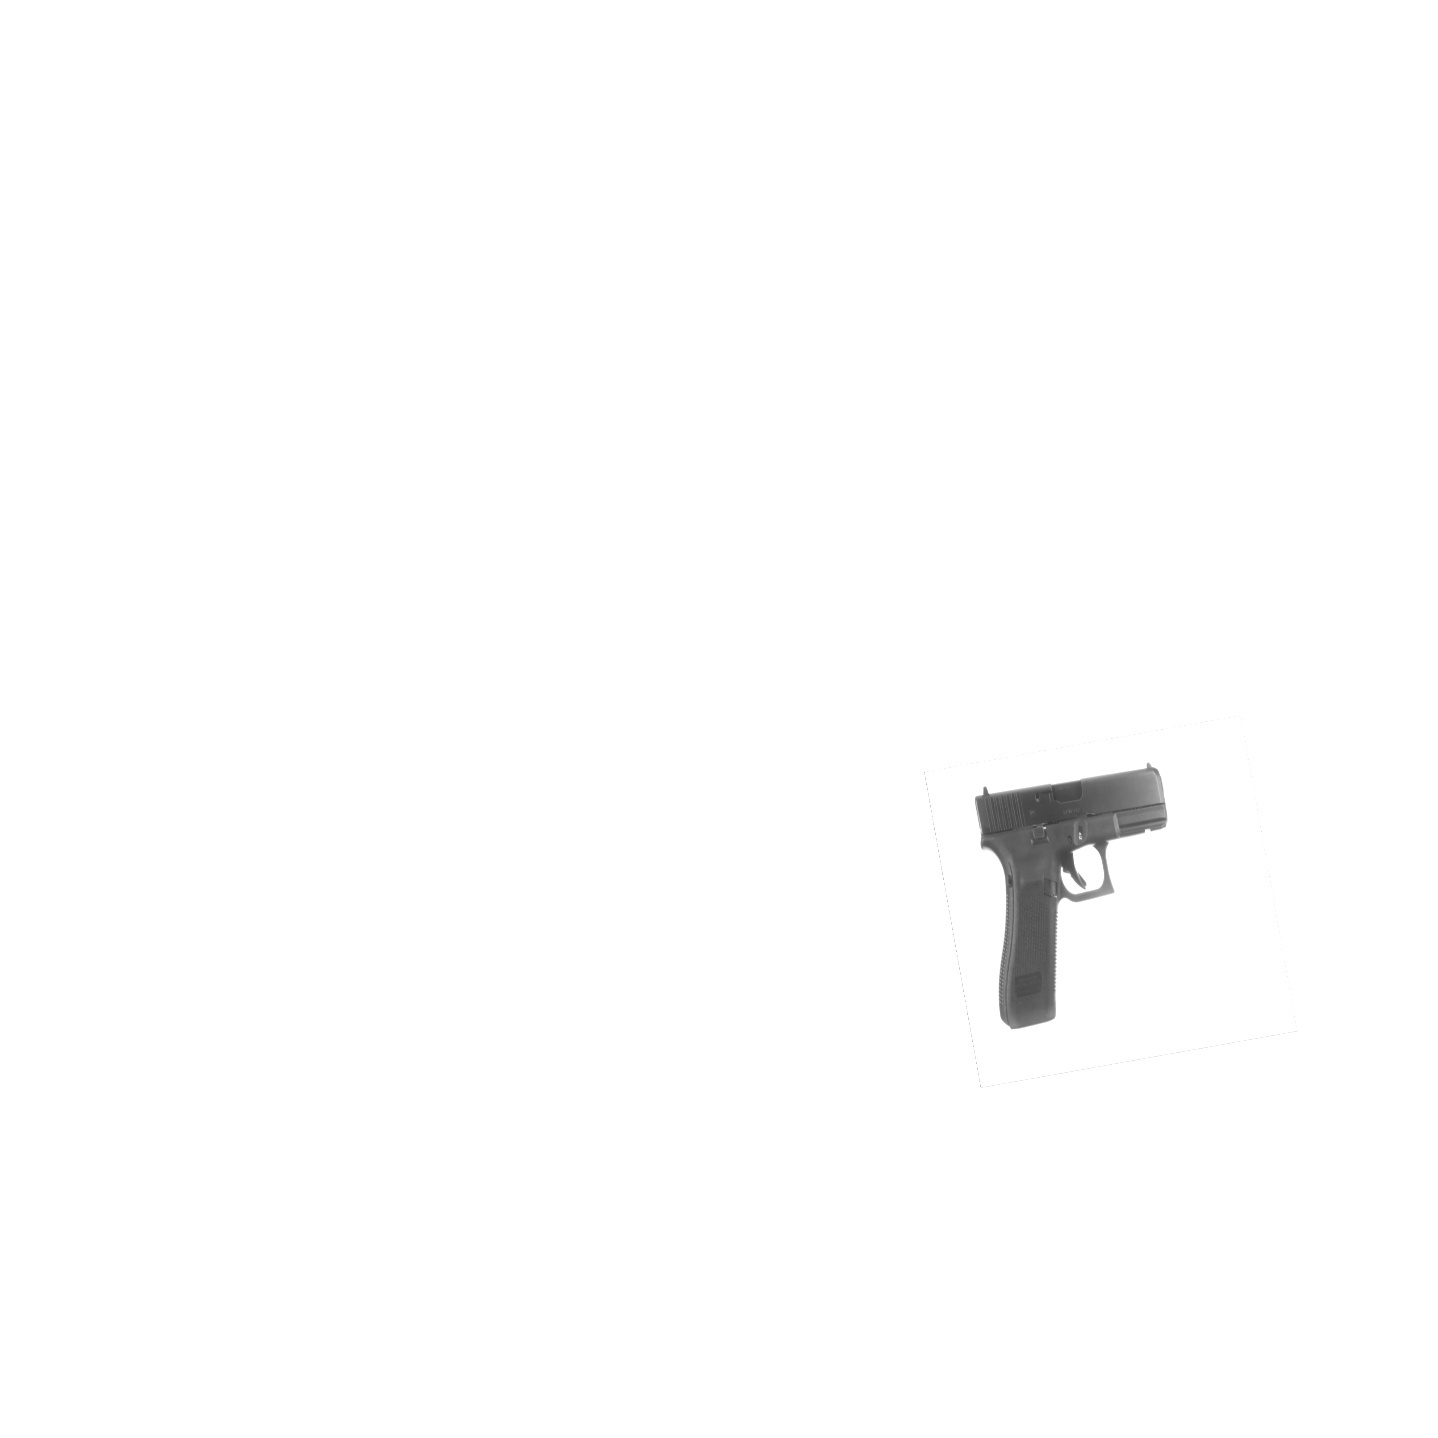gun: (974, 762, 1167, 1028)
